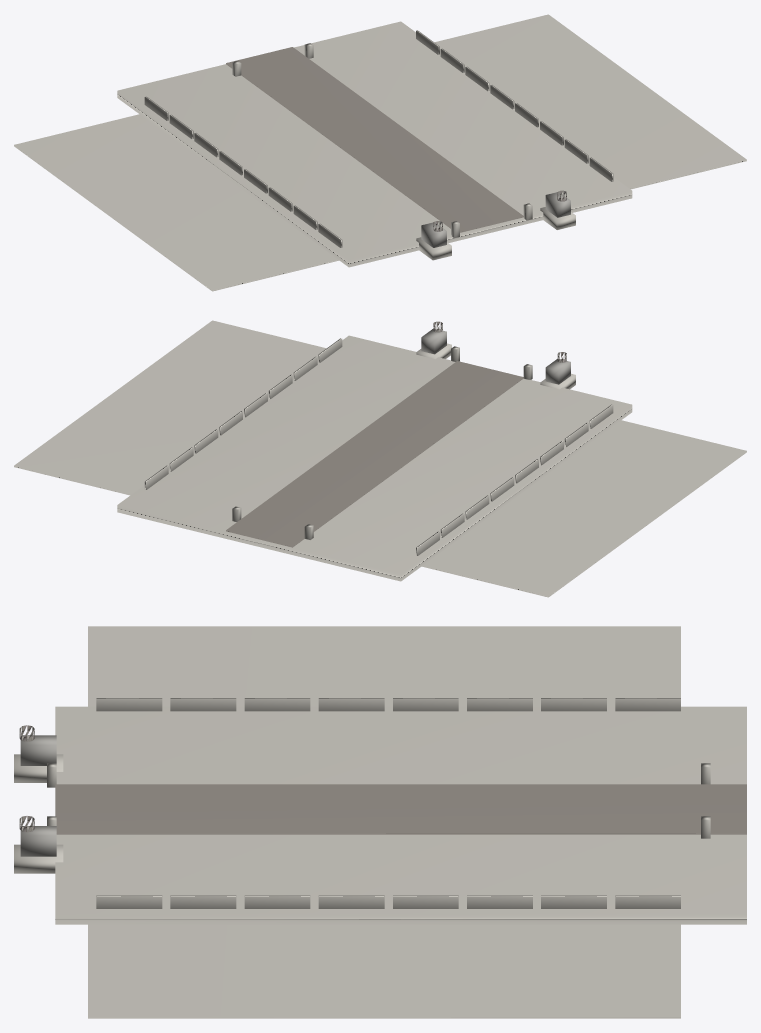
3 renders of one model, top to bottom at view 1: azimuth 30°, elevation 25°; view 2: azimuth 150°, elevation 25°; view 3: azimuth 270°, elevation 25°, orthographic. The views are drawn at different scales.
Visible parts, largest first — view 1: woldae_simplified, ground_simplified, haetae_simplified; view 2: woldae_simplified, ground_simplified, haetae_simplified; view 3: woldae_simplified, ground_simplified, haetae_simplified.
Part boxes in pixels (left/top/right/bottom): woldae_simplified: left=117, top=21, right=632, bottom=267; ground_simplified: left=14, top=14, right=746, bottom=291; haetae_simplified: left=416, top=190, right=575, bottom=260; woldae_simplified: left=117, top=335, right=632, bottom=581; ground_simplified: left=14, top=320, right=746, bottom=597; haetae_simplified: left=416, top=321, right=575, bottom=389; woldae_simplified: left=47, top=698, right=746, bottom=924; ground_simplified: left=88, top=626, right=680, bottom=1018; haetae_simplified: left=14, top=725, right=63, bottom=873.
Size of the model in its own units: 56 by 3.35 by 44.5.
3 materials, 3 textured.
